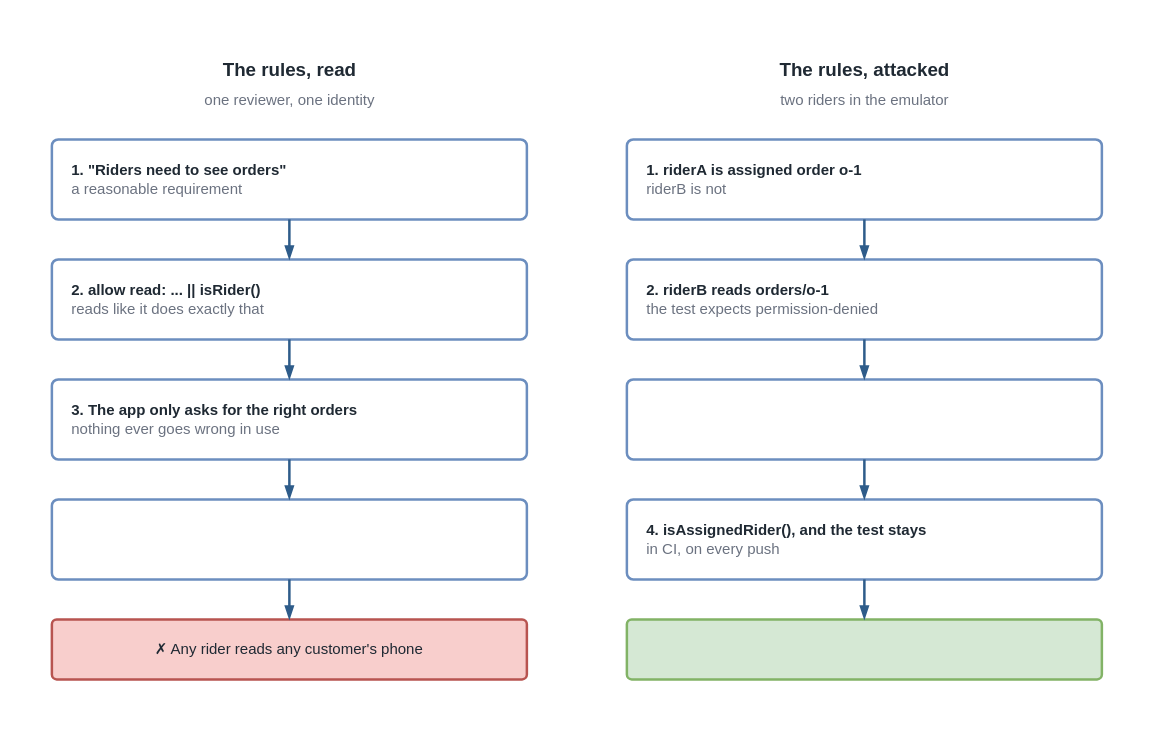
Some shapes in this 1153 by 730 pixel diagram are drawn without their labels. Each missing label, with the box of its shape:
3. The test fails: the read succeeds an exploit path, not a category: (625, 378, 1102, 460)
4. The review comes back clean no second rider was ever tried: (50, 498, 528, 580)
✓ The attack fails on every push: (625, 618, 1102, 680)
